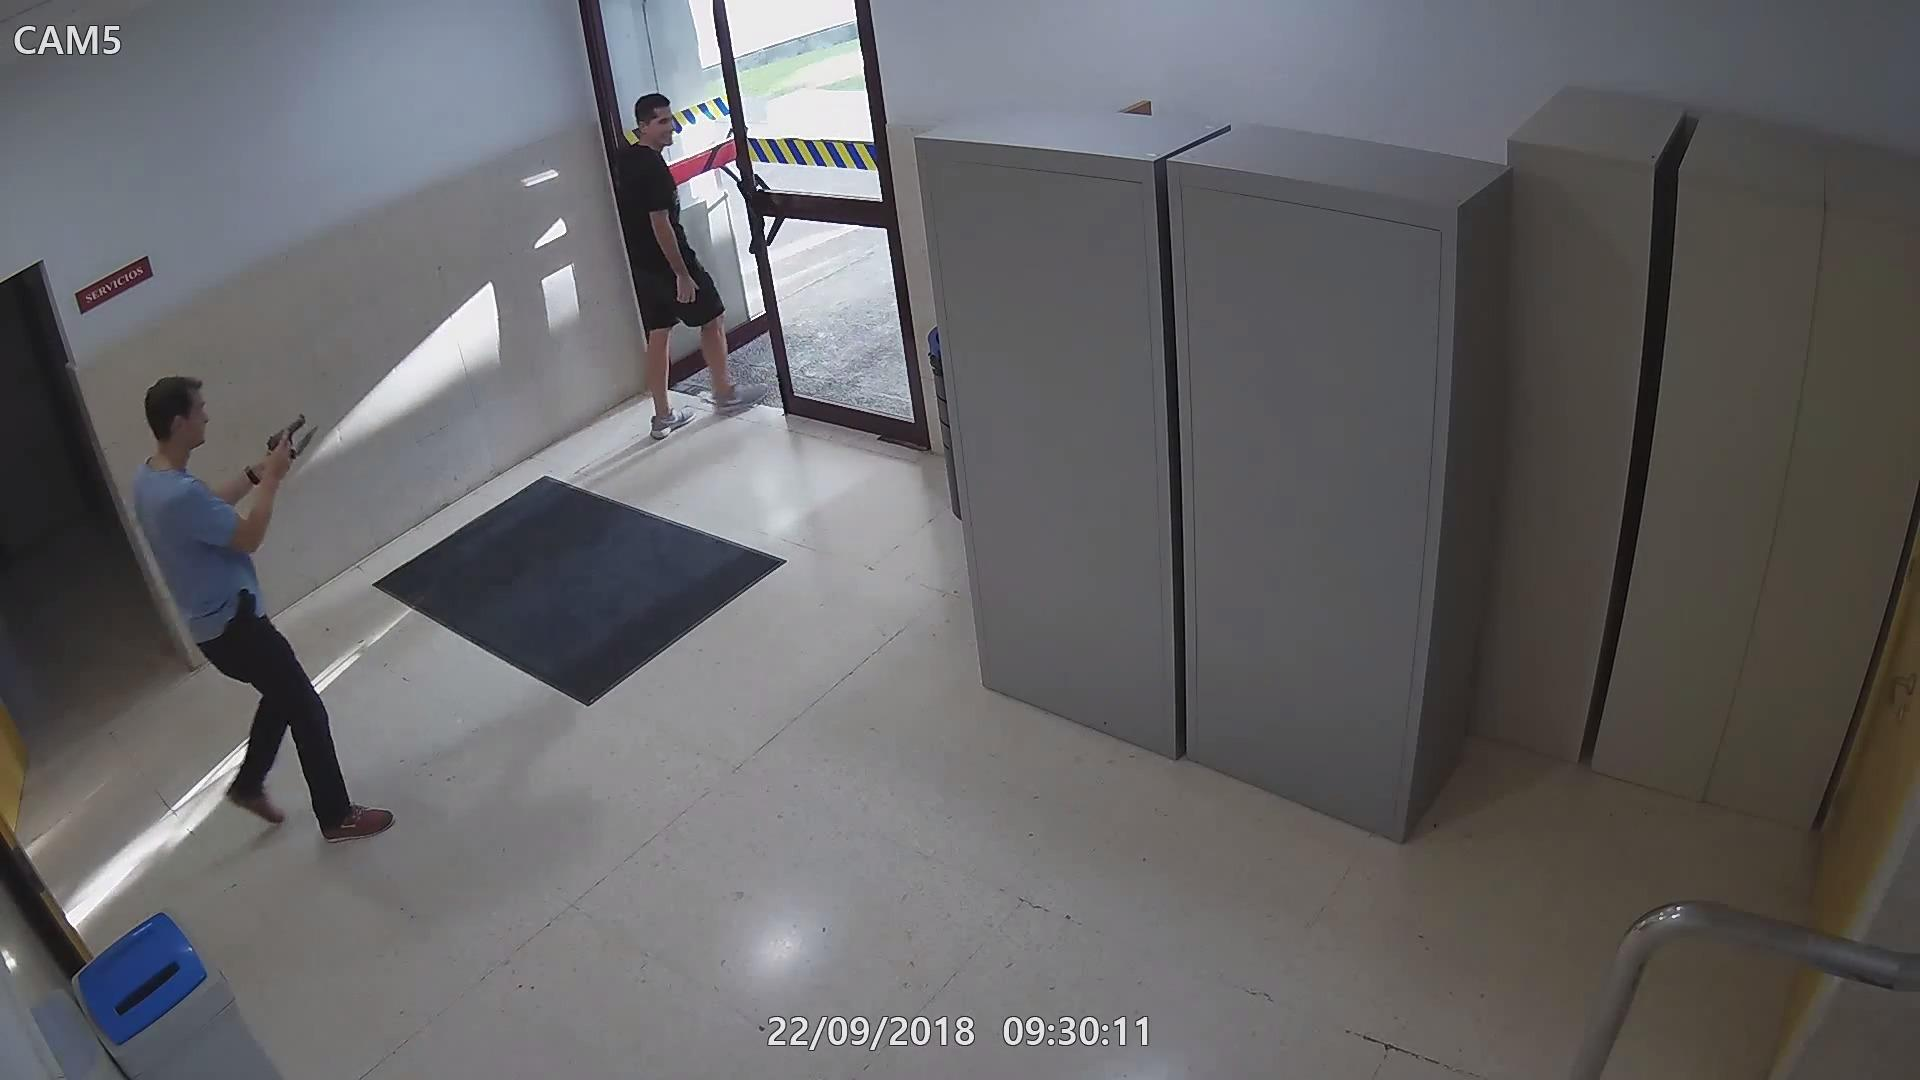Handgun: (260, 422, 306, 459)
